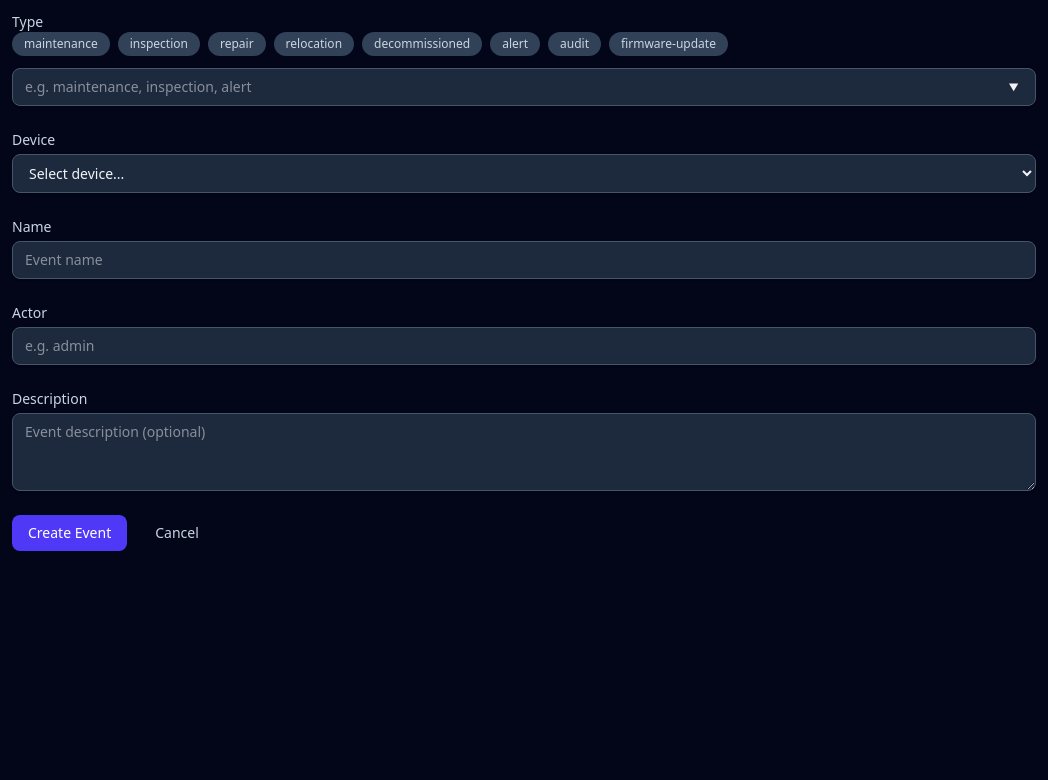
it: EventForm › clicking a chip fills the type input
Click the button "repair" at coordinates (237, 44), box [208,32,266,56]
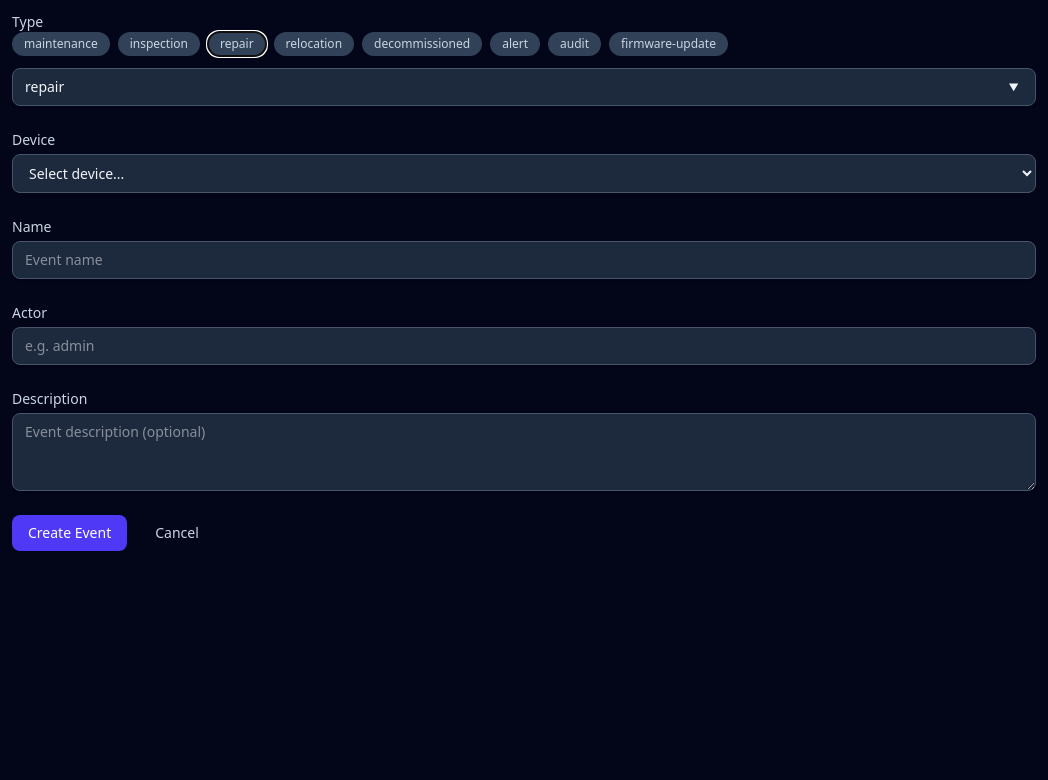
Expected: the field labelled "Type" holds "repair", [12,68,1036,106]
